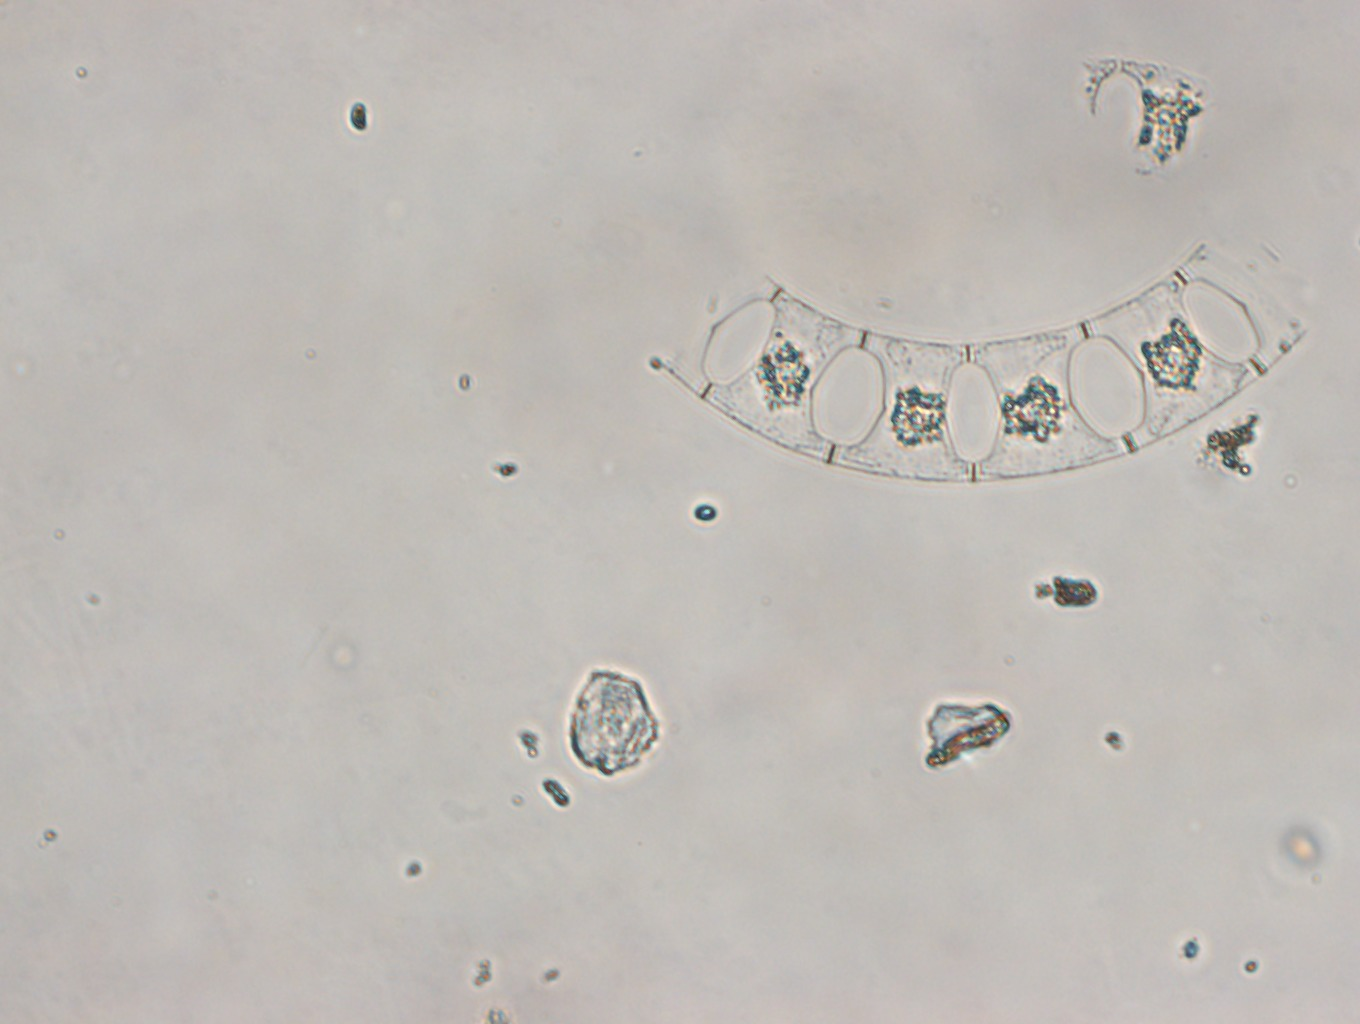eucampia: (679, 228, 1316, 495)
